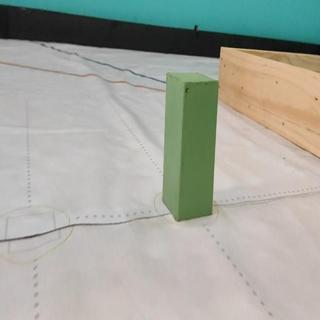greenbox: (162, 71, 217, 223)
